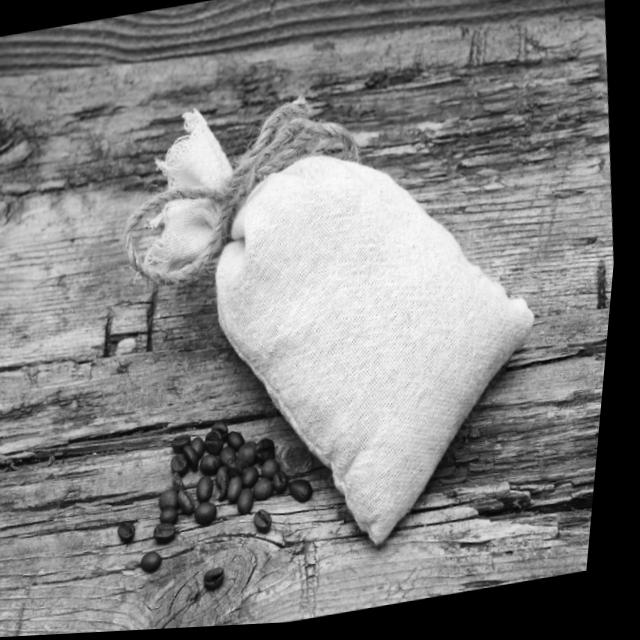sack: (108, 51, 585, 592)
